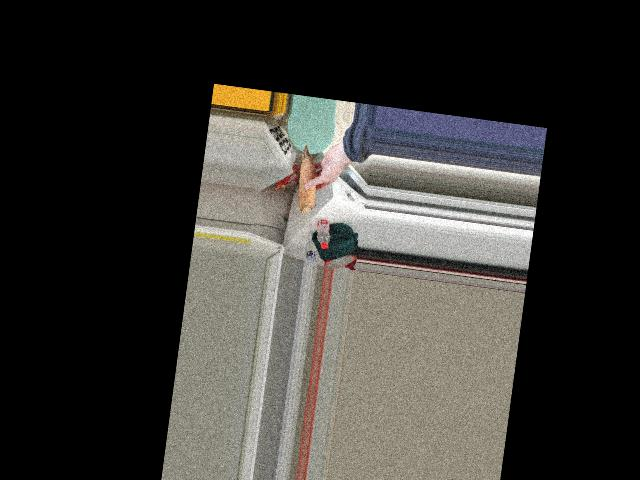sweet_potato: (294, 146, 324, 216)
